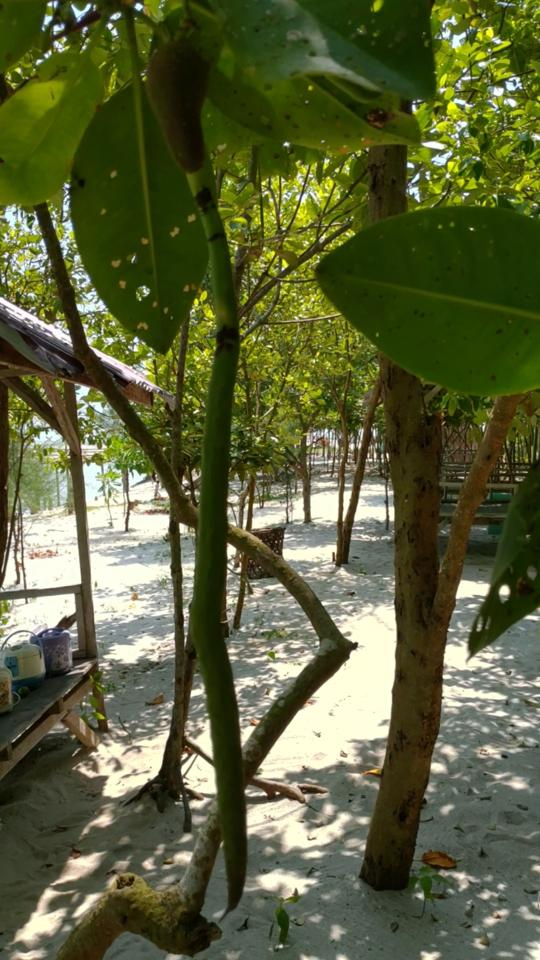mentah: (128, 27, 276, 923)
